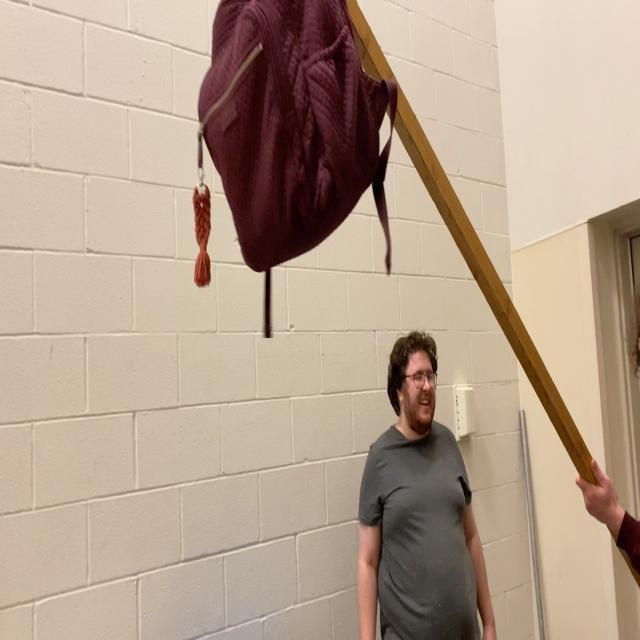Backpacks: (200, 0, 384, 273)
